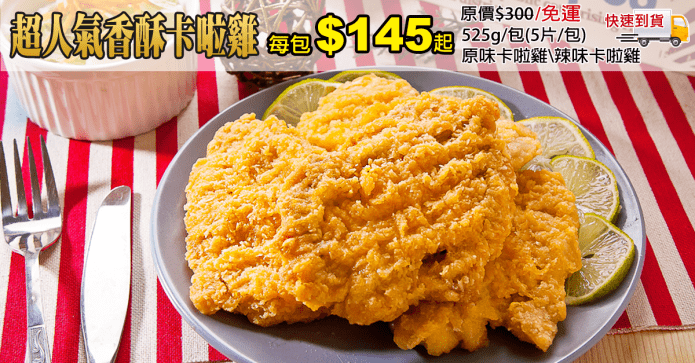fried_chicken: (186, 72, 578, 350)
